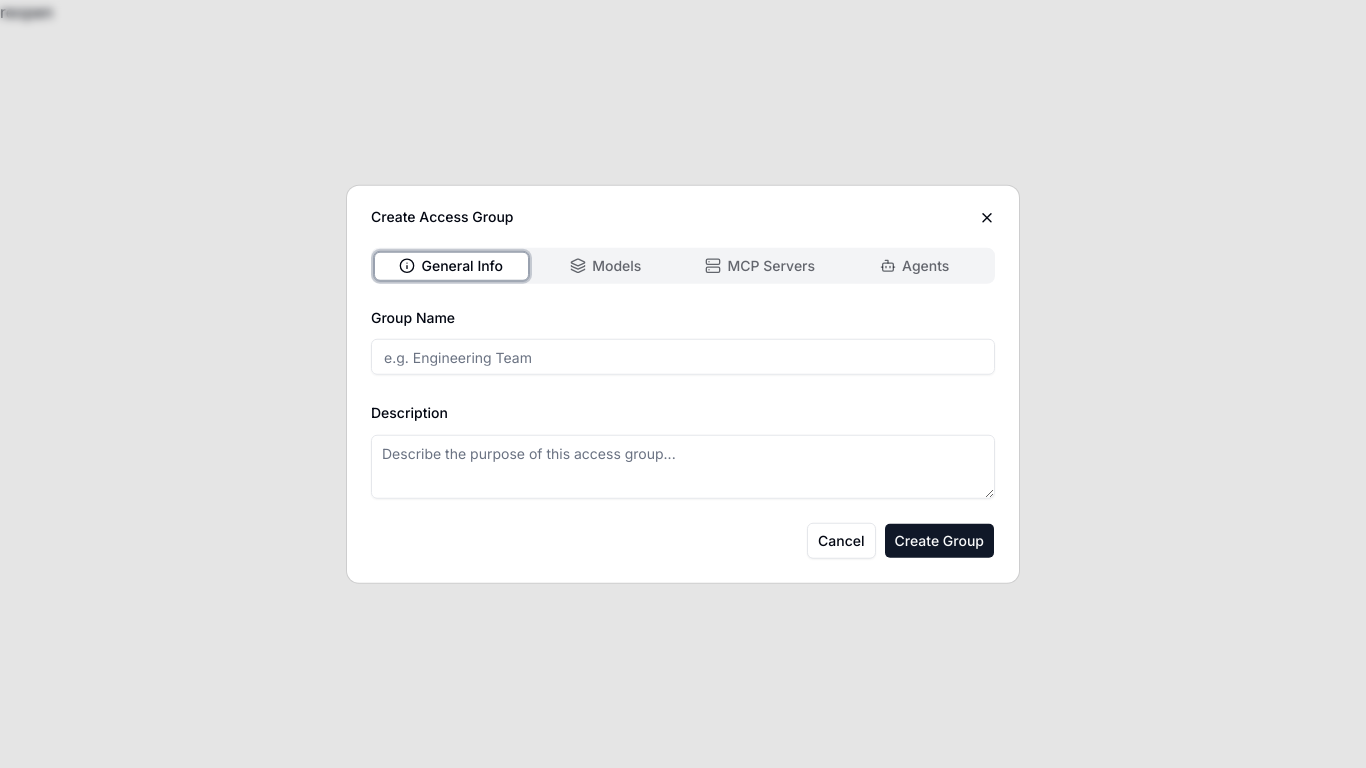
Test: AccessGroupCreateDialog › sends only the group name for a minimal create and closes the dialog
In the field labelled "Group Name": (683, 357) [371, 339, 995, 375], type "prod-models"
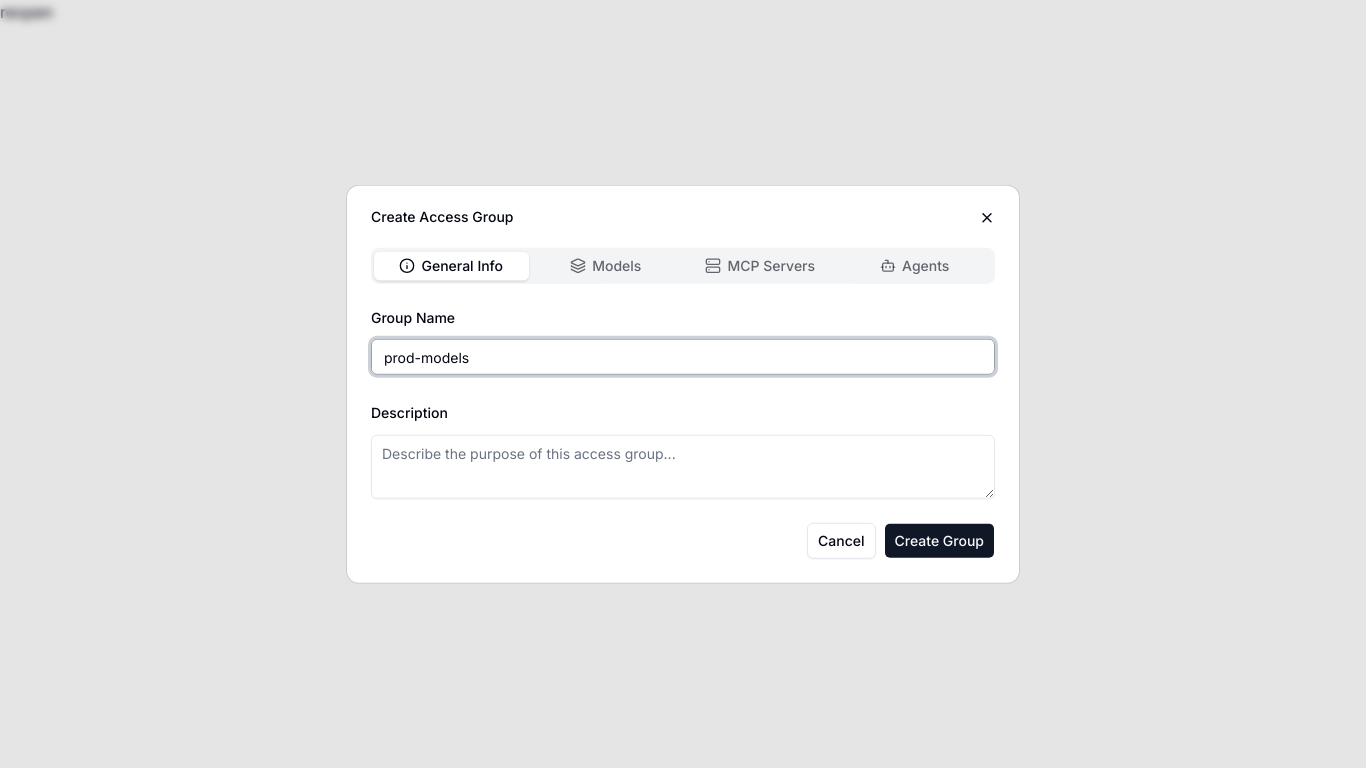
Click the button "Create Group": (939, 540) [884, 522, 995, 558]
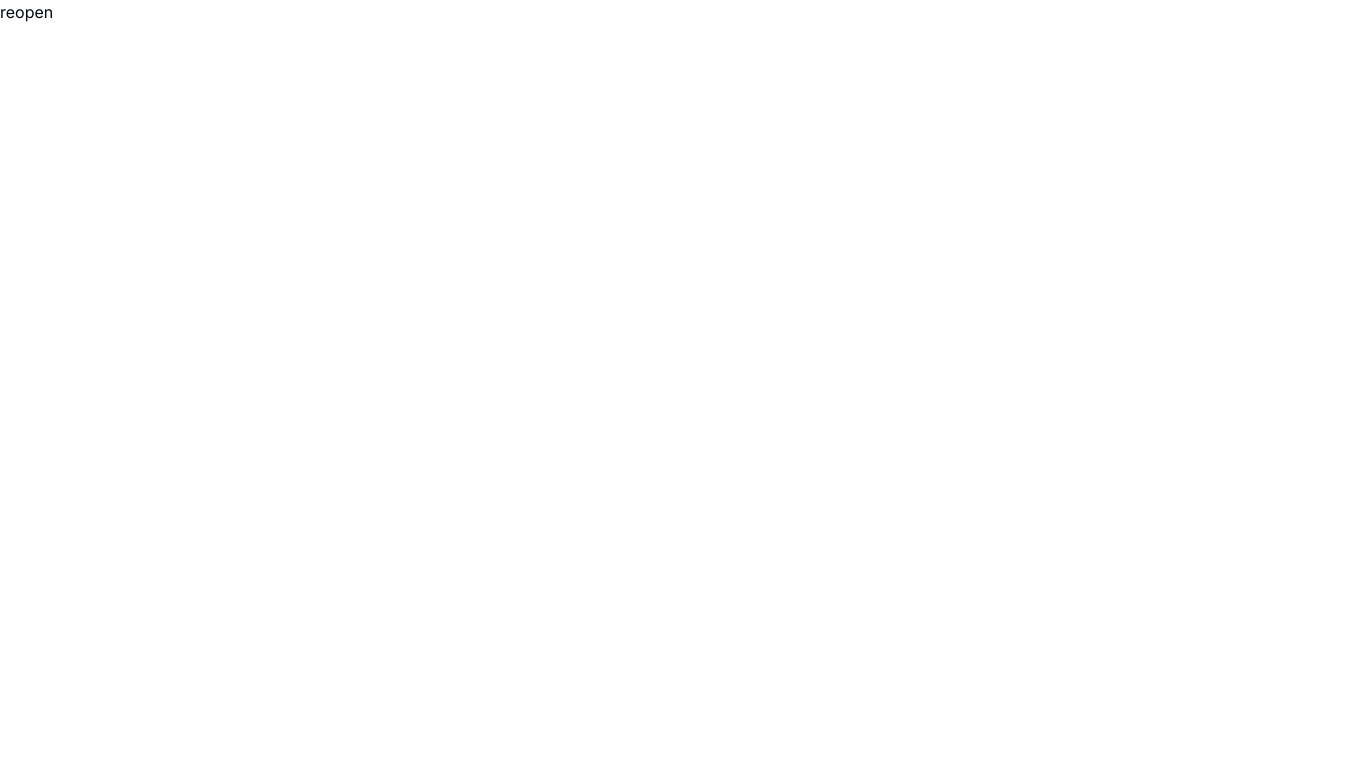
Expected: the label labelled "Group Name" is gone
